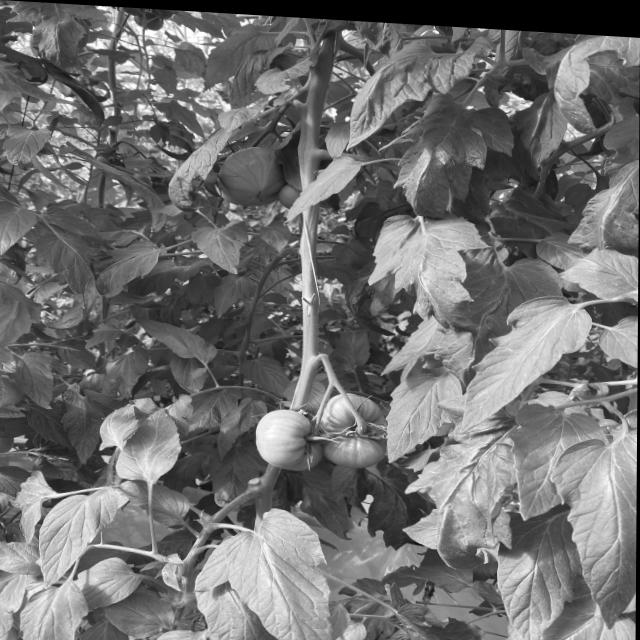yesil: (211, 370, 451, 498)
